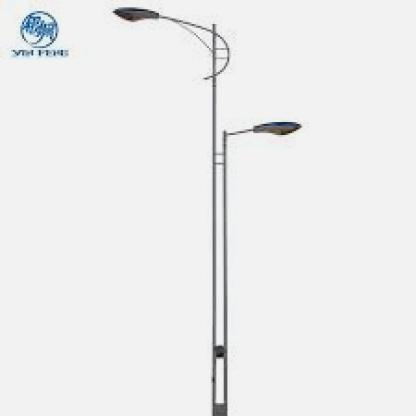light_pole: (111, 6, 305, 415)
